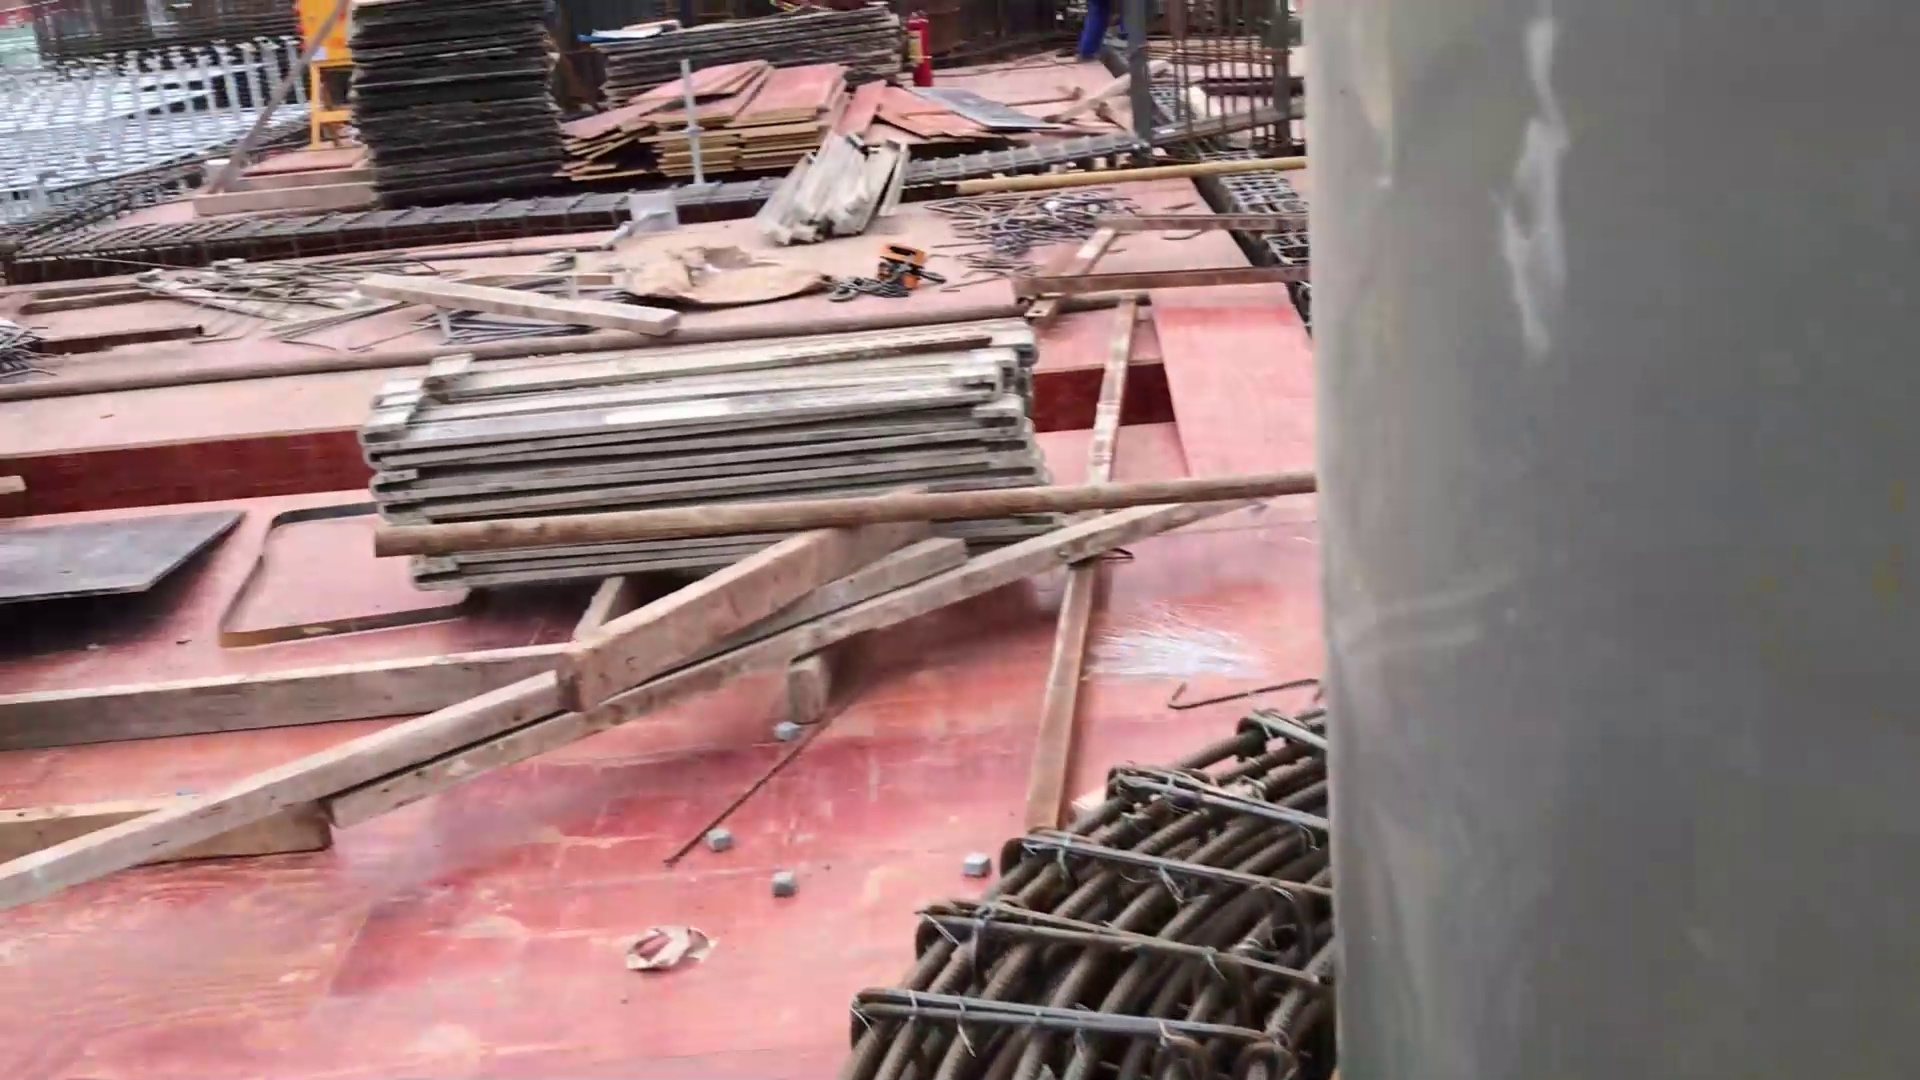board: (601, 7, 918, 136), (363, 1, 555, 202), (607, 62, 849, 199)
